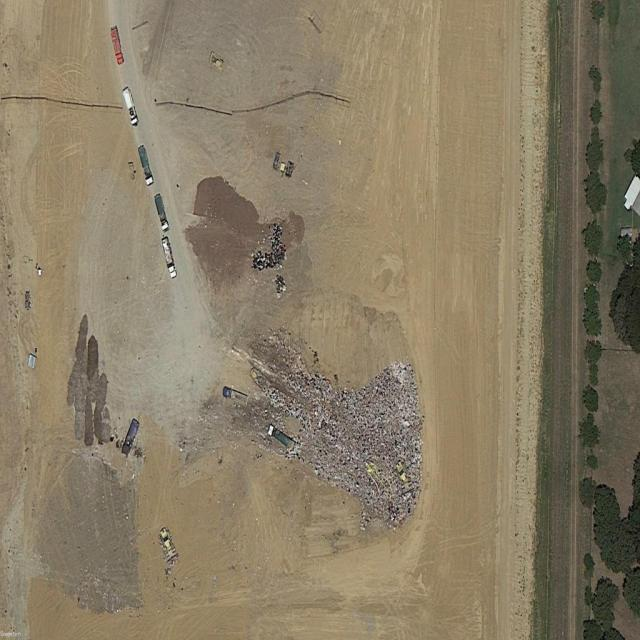dump_site: (277, 353, 419, 533)
